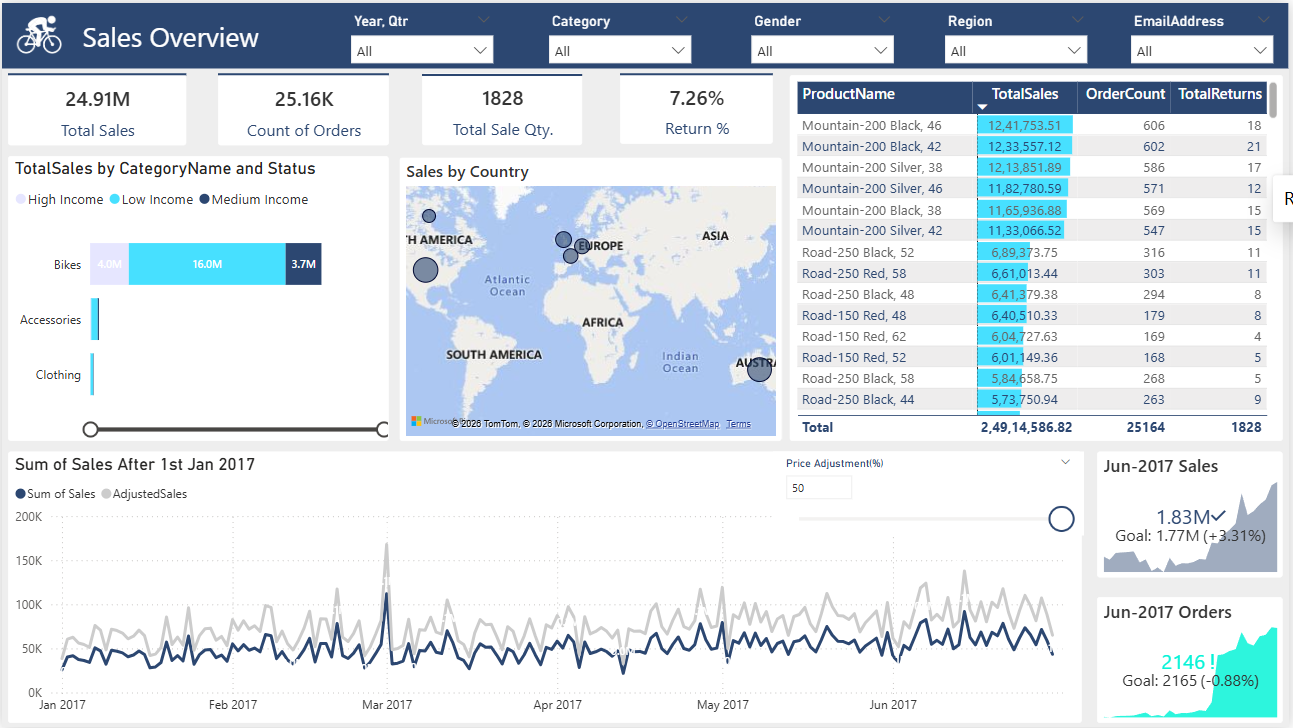

Layout of this report page (visuals, bound fields, positions):
{"tool":"powerbi","page":{"name":"Sales Overview Dashboard","canvas":[1280,720],"ordinal":0},"visuals":[{"type":"lineChart","title":"Sum of Sales After 1st Jan 2017","fields":{"Category":["DateTable.Date"],"Y":["Sum(FinaL Sales.Sales)","Measure Table.AdjustedSales"]},"box":[6,446.1,1068.2,270],"z":0},{"type":"shape","title":"Report Title","box":[0,0,1279.5,65.1],"z":1000},{"type":"card","fields":{"Values":["Measure Table.TotalSales"]},"box":[6,71.6,177.5,70.1],"z":2000},{"type":"card","fields":{"Values":["Count(FinaL Sales.OrderNumber)"]},"box":[214.8,71.6,170.1,70.1],"z":3000},{"type":"card","fields":{"Values":["Sum(Returns.ReturnQuantity)"]},"box":[417.7,70.1,159.6,71.6],"z":4000},{"type":"card","fields":{"Values":["Measure Table.%return"]},"box":[614.6,70.1,152.2,70.1],"z":5000},{"type":"shape","box":[6,64.1,177.5,13.4],"z":6000},{"type":"shape","box":[214.8,64.1,170.1,13.4],"z":7000},{"type":"shape","box":[614.6,64.1,152.2,13.4],"z":8000},{"type":"shape","box":[417.7,64.1,159.6,14.9],"z":9000},{"type":"image","title":"Logo","box":[0,0,74.4,65.1],"z":10000},{"type":"barChart","fields":{"Y":["Measure Table.TotalSales"],"Series":["Customers Table.Status"],"Category":["Product Categories.CategoryName"]},"box":[6,152.2,378.9,283.4],"z":11000},{"type":"tableEx","fields":{"Values":["Products.ProductName","Measure Table.TotalSales","FinaL Sales.OrderNumber","Sum(Returns.ReturnQuantity)"]},"box":[783.2,71.6,490.8,364],"z":12000},{"type":"kpi","fields":{"Goal":["Measure Table.previousmonthsales"],"Indicator":["Measure Table.TotalSales"],"TrendLine":["DateTable.YearMonth"]},"box":[1089,446.1,185,125.3],"z":13000},{"type":"kpi","fields":{"TrendLine":["DateTable.YearMonth"],"Indicator":["Count(FinaL Sales.OrderNumber)"],"Goal":["Measure Table.previousmonthordercount"]},"box":[1089,590.8,185,125.3],"z":14000},{"type":"map","title":"Sales by Country","fields":{"Size":["Measure Table.TotalSales"],"Category":["Territories.Country"]},"box":[394.6,153.1,380,282.3],"z":15000},{"type":"slicer","fields":{"Values":["Product Categories.CategoryName"]},"box":[534.1,4.5,161.1,58.2],"z":16000},{"type":"slicer","fields":{"Values":["Customers Table.Gender"]},"box":[735.5,4.5,161.1,58.2],"z":17000},{"type":"slicer","fields":{"Values":["Customers Table.EmailAddress"]},"box":[1112.9,4.5,161.1,58.2],"z":18000},{"type":"slicer","fields":{"Values":["Territories.Region"]},"box":[927.9,4.5,161.1,58.2],"z":19000},{"type":"slicer","fields":{"Values":["DateTable.YearMonth.Variation.Date Hierarchy.Year","DateTable.YearMonth.Variation.Date Hierarchy.Quarter"]},"box":[337.2,4.5,161.1,58.2],"z":20000},{"type":"slicer","fields":{"Values":["Price Adjustment(%).Price Adjustment(%)"]},"box":[766.7,446.7,308.3,83.3],"z":21000}]}

Visuals, with their boxes in screenshot pixels (x1, y1, x2, y2), scaled from the page's 1280x720 canvas onto the 1293x728 screenshot:
"Sum of Sales After 1st Jan 2017" lineChart: x1=6 y1=451 x2=1085 y2=724
"Report Title" shape: x1=0 y1=0 x2=1292 y2=66
card - Measure Table.TotalSales: x1=6 y1=72 x2=185 y2=143
card - Count(FinaL Sales.OrderNumber): x1=217 y1=72 x2=389 y2=143
card - Sum(Returns.ReturnQuantity): x1=422 y1=71 x2=583 y2=143
card - Measure Table.%return: x1=621 y1=71 x2=775 y2=142
shape: x1=6 y1=65 x2=185 y2=78
shape: x1=217 y1=65 x2=389 y2=78
shape: x1=621 y1=65 x2=775 y2=78
shape: x1=422 y1=65 x2=583 y2=80
"Logo" image: x1=0 y1=0 x2=75 y2=66
barChart - Measure Table.TotalSales x Customers Table.Status: x1=6 y1=154 x2=389 y2=440
tableEx - Products.ProductName x Measure Table.TotalSales: x1=791 y1=72 x2=1287 y2=440
kpi - Measure Table.previousmonthsales x Measure Table.TotalSales: x1=1100 y1=451 x2=1287 y2=578
kpi - DateTable.YearMonth x Count(FinaL Sales.OrderNumber): x1=1100 y1=597 x2=1287 y2=724
"Sales by Country" map: x1=399 y1=155 x2=782 y2=440
slicer - Product Categories.CategoryName: x1=540 y1=5 x2=702 y2=63
slicer - Customers Table.Gender: x1=743 y1=5 x2=906 y2=63
slicer - Customers Table.EmailAddress: x1=1124 y1=5 x2=1287 y2=63
slicer - Territories.Region: x1=937 y1=5 x2=1100 y2=63
slicer - DateTable.YearMonth.Variation.Date Hierarchy.Year x DateTable.YearMonth.Variation.Date Hierarchy.Quarter: x1=341 y1=5 x2=503 y2=63
slicer - Price Adjustment(%).Price Adjustment(%): x1=774 y1=452 x2=1086 y2=536
